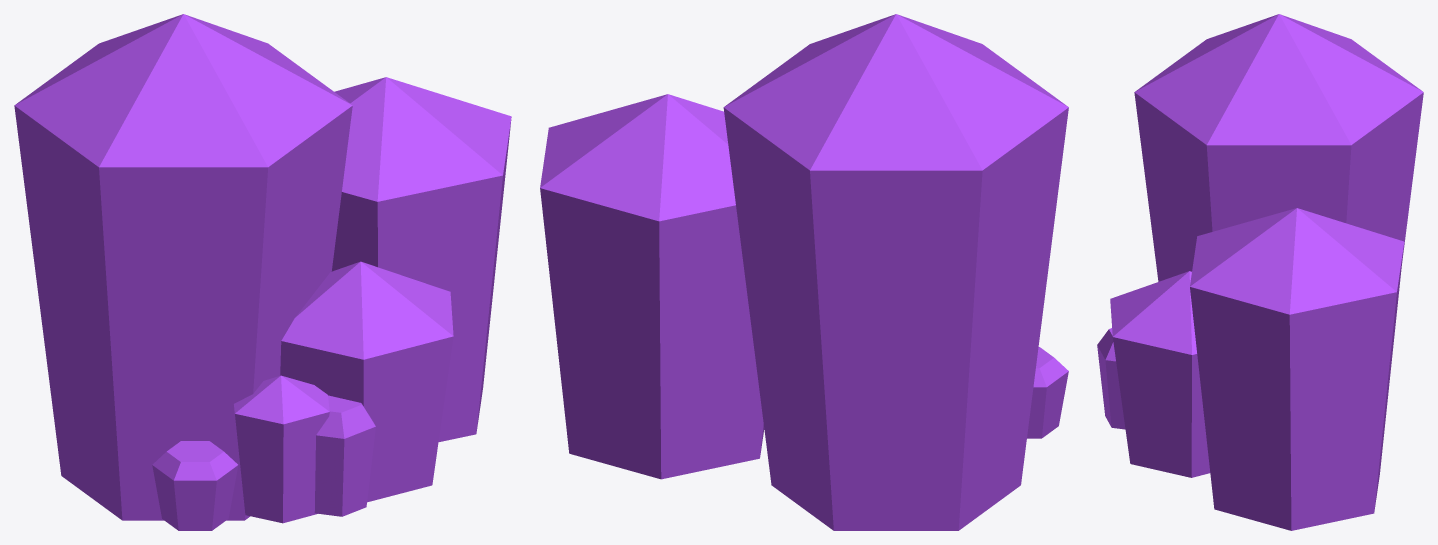
The model's file is Gems2_Env.fbx.
3 views of the same model, side by side, from view 1: azimuth 30°, elevation 25°; view 2: azimuth 150°, elevation 25°; view 3: azimuth 270°, elevation 25° (orthographic). The views are drawn at different scales.
Parts seen in each view (by area): view 1: Gems2_Env; view 2: Gems2_Env; view 3: Gems2_Env.
Part boxes in pixels (bbox=[...]): Gems2_Env: bbox=[14, 14, 511, 530]; Gems2_Env: bbox=[540, 14, 1068, 530]; Gems2_Env: bbox=[1097, 14, 1423, 530].
Bounding box in the file's own units: 3.06 × 2.19 × 2.93.
